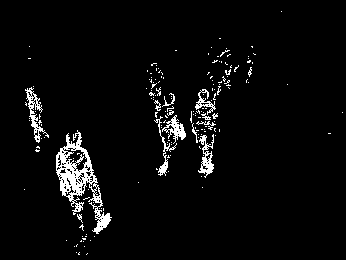person: (55, 129, 111, 242), (156, 92, 186, 179), (191, 88, 219, 179), (24, 84, 50, 153)
